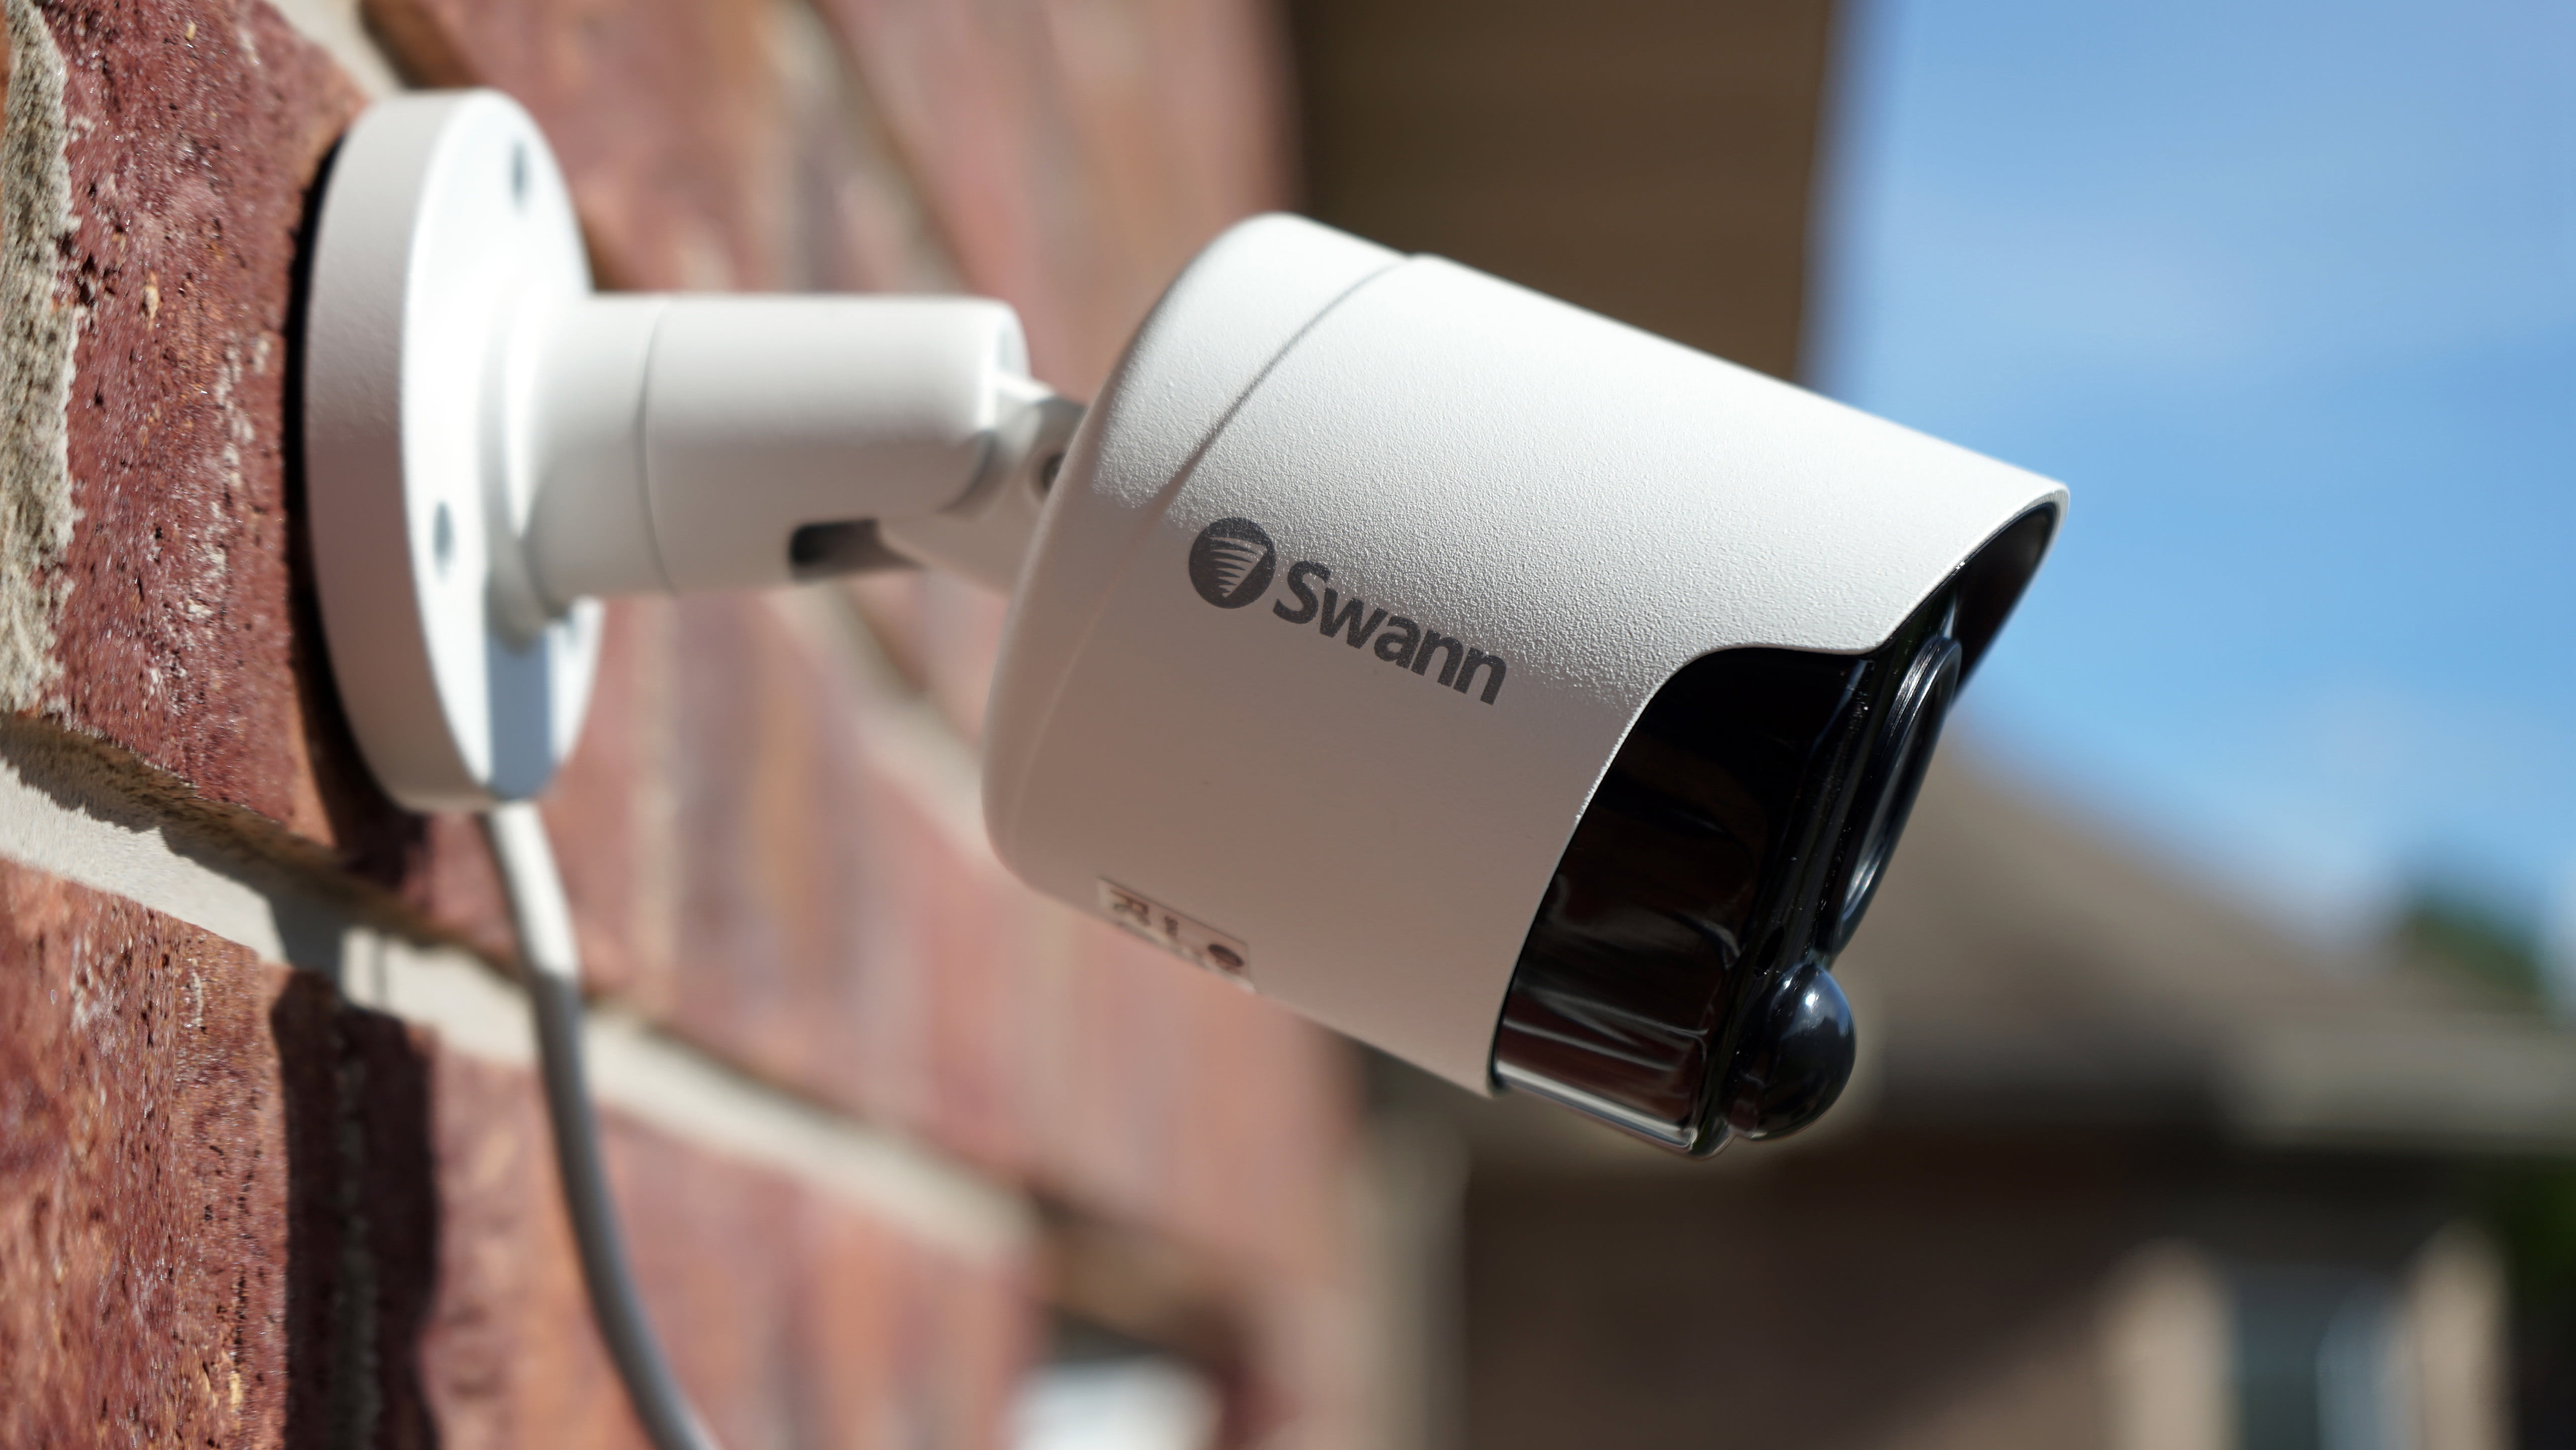Nest Cam: (909, 174, 2123, 1188)
